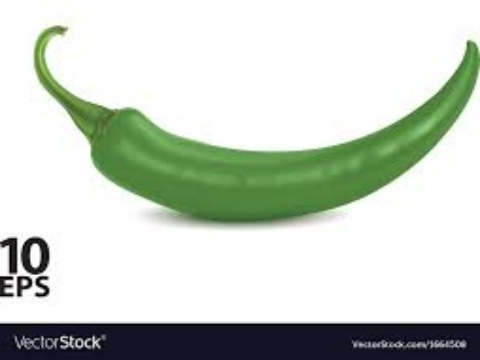Chilli: (26, 18, 480, 239)
